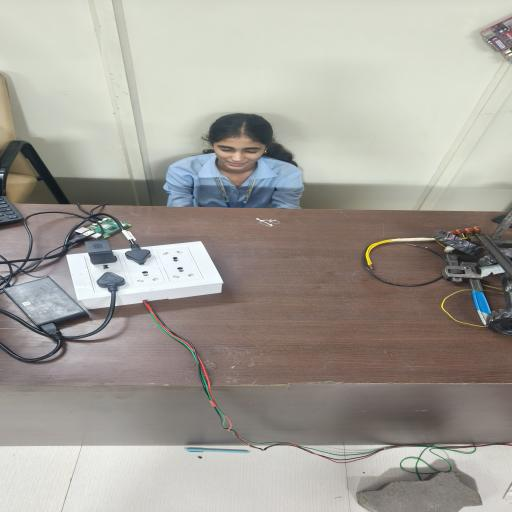survivor: (163, 113, 304, 209)
